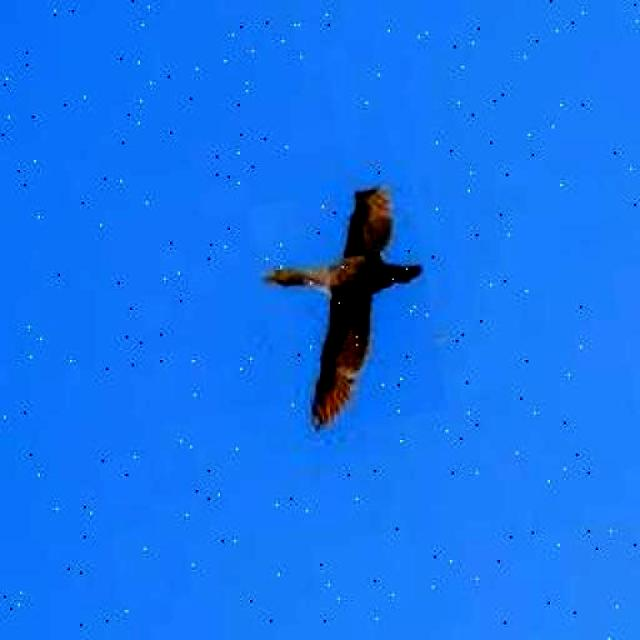airplane: (248, 178, 448, 436)
